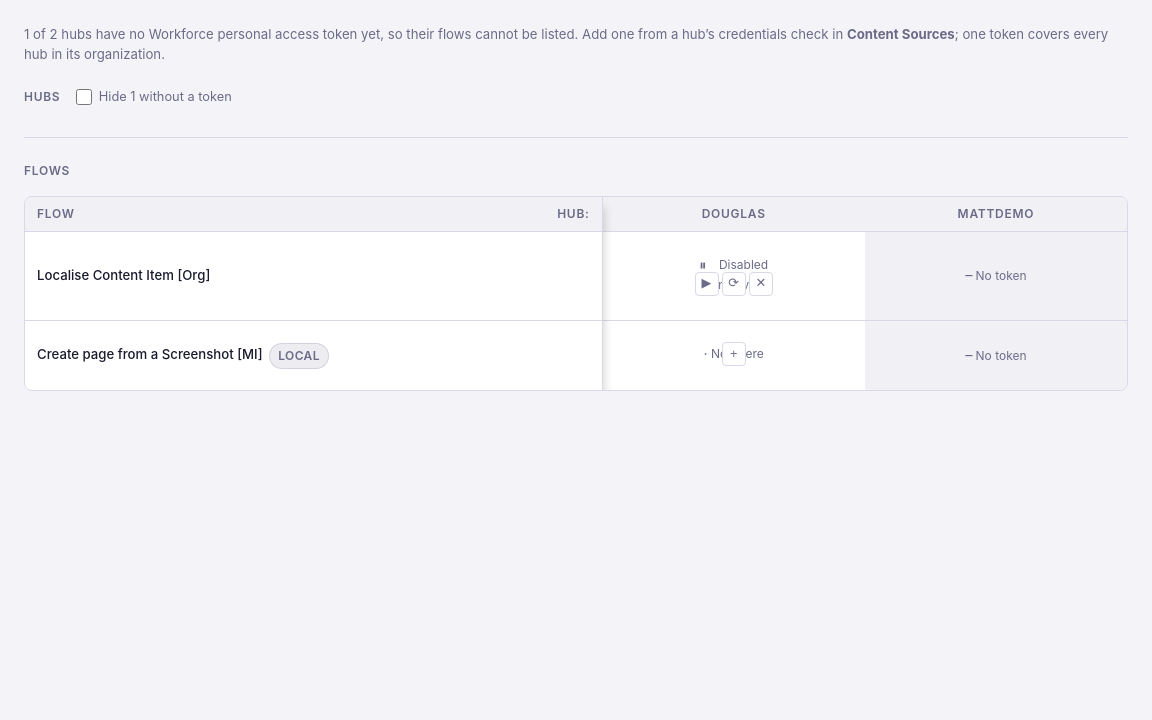
Test: FlowsTab — enabling and disabling › logs a refusal without re-reading the hub
Click the button named "Enable douglas".
click(706, 284)  # box [694,272,718,296]
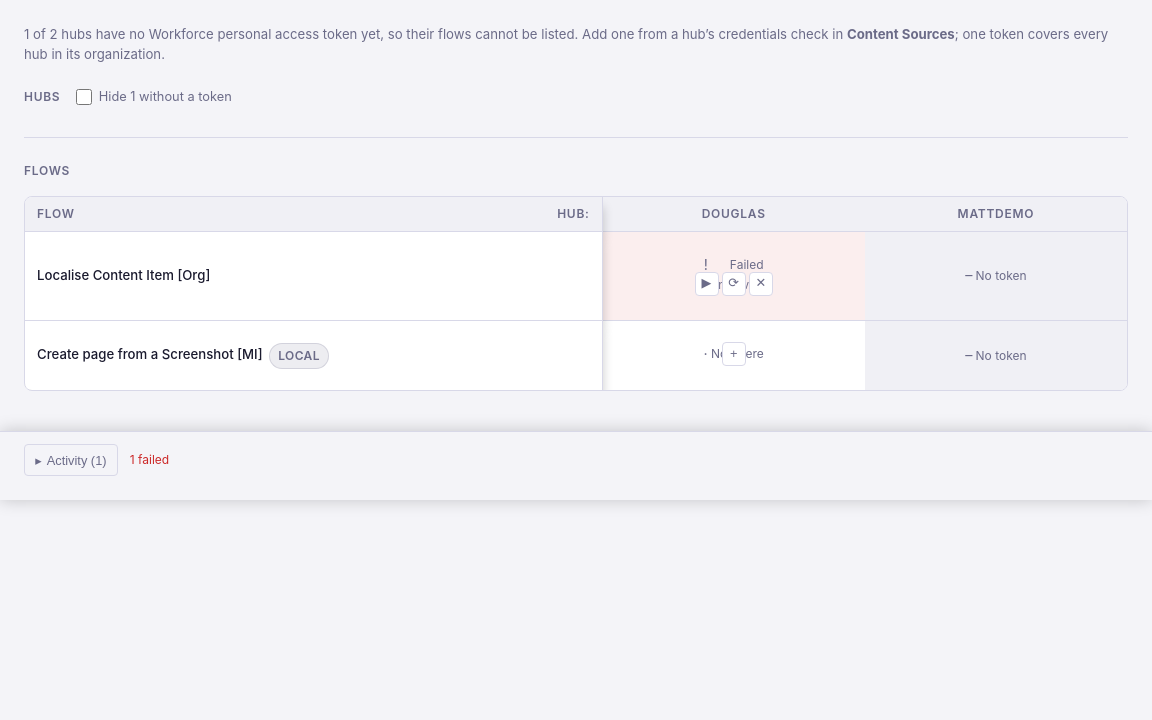
Now the text "1 failed" is shown, box [130,452,169,470]
